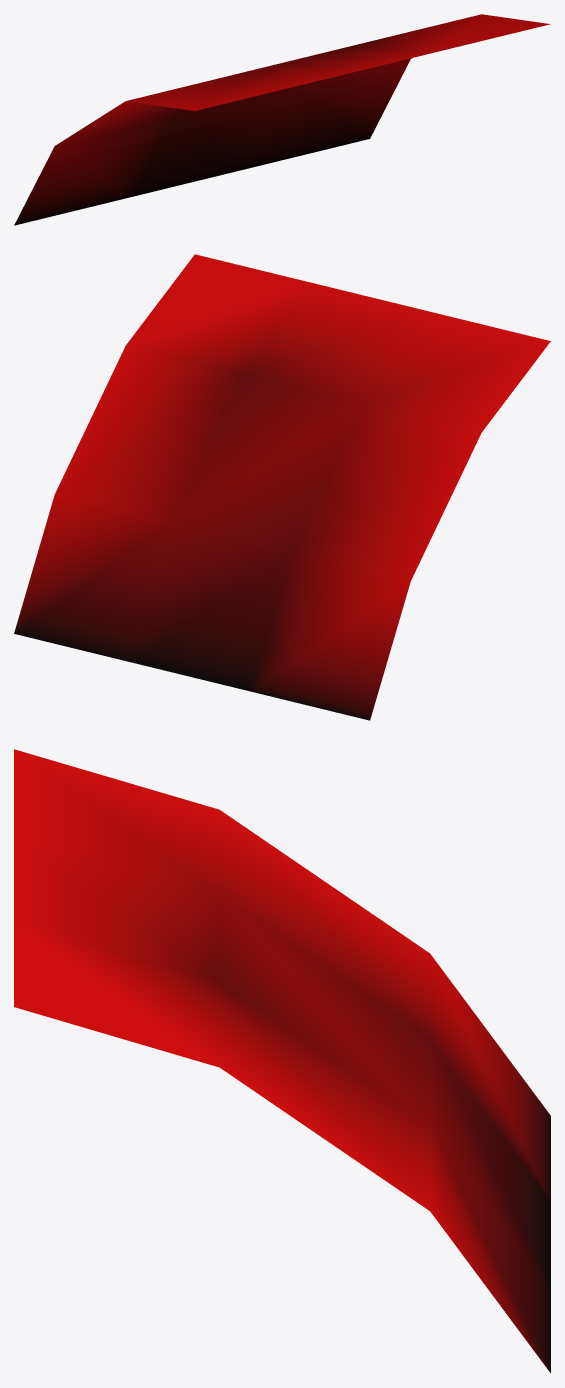
File: grass_plane_3.fbx
3 views of the same model, one above another, from view 1: azimuth 30°, elevation 25°; view 2: azimuth 150°, elevation 25°; view 3: azimuth 270°, elevation 25° (orthographic). The views are drawn at different scales.
Visible parts, largest first — view 1: grass_plane_3; view 2: grass_plane_3; view 3: grass_plane_3.
Part boxes in pixels (left/top/right/bottom): grass_plane_3: left=14, top=14, right=550, bottom=225; grass_plane_3: left=14, top=254, right=550, bottom=720; grass_plane_3: left=14, top=749, right=550, bottom=1373.
Size of the model in its own units: 111 by 73.86 by 98.02.
